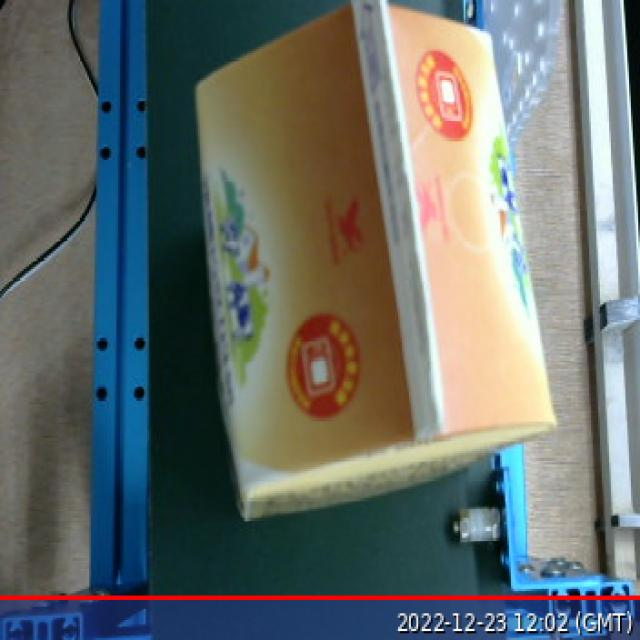non_white_jug: (176, 1, 579, 543)
